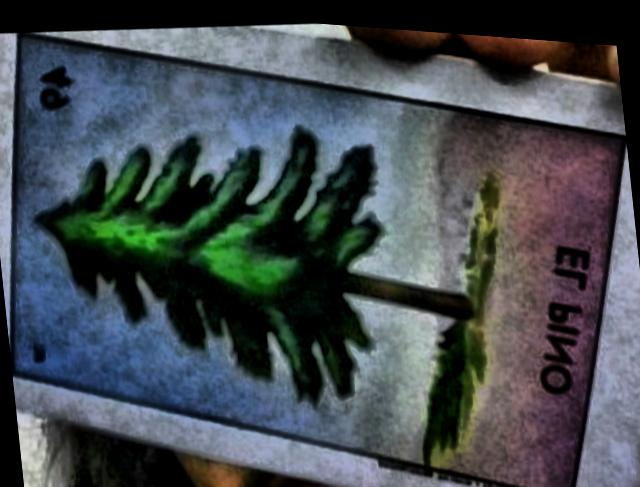El Pino: (13, 33, 624, 487)
